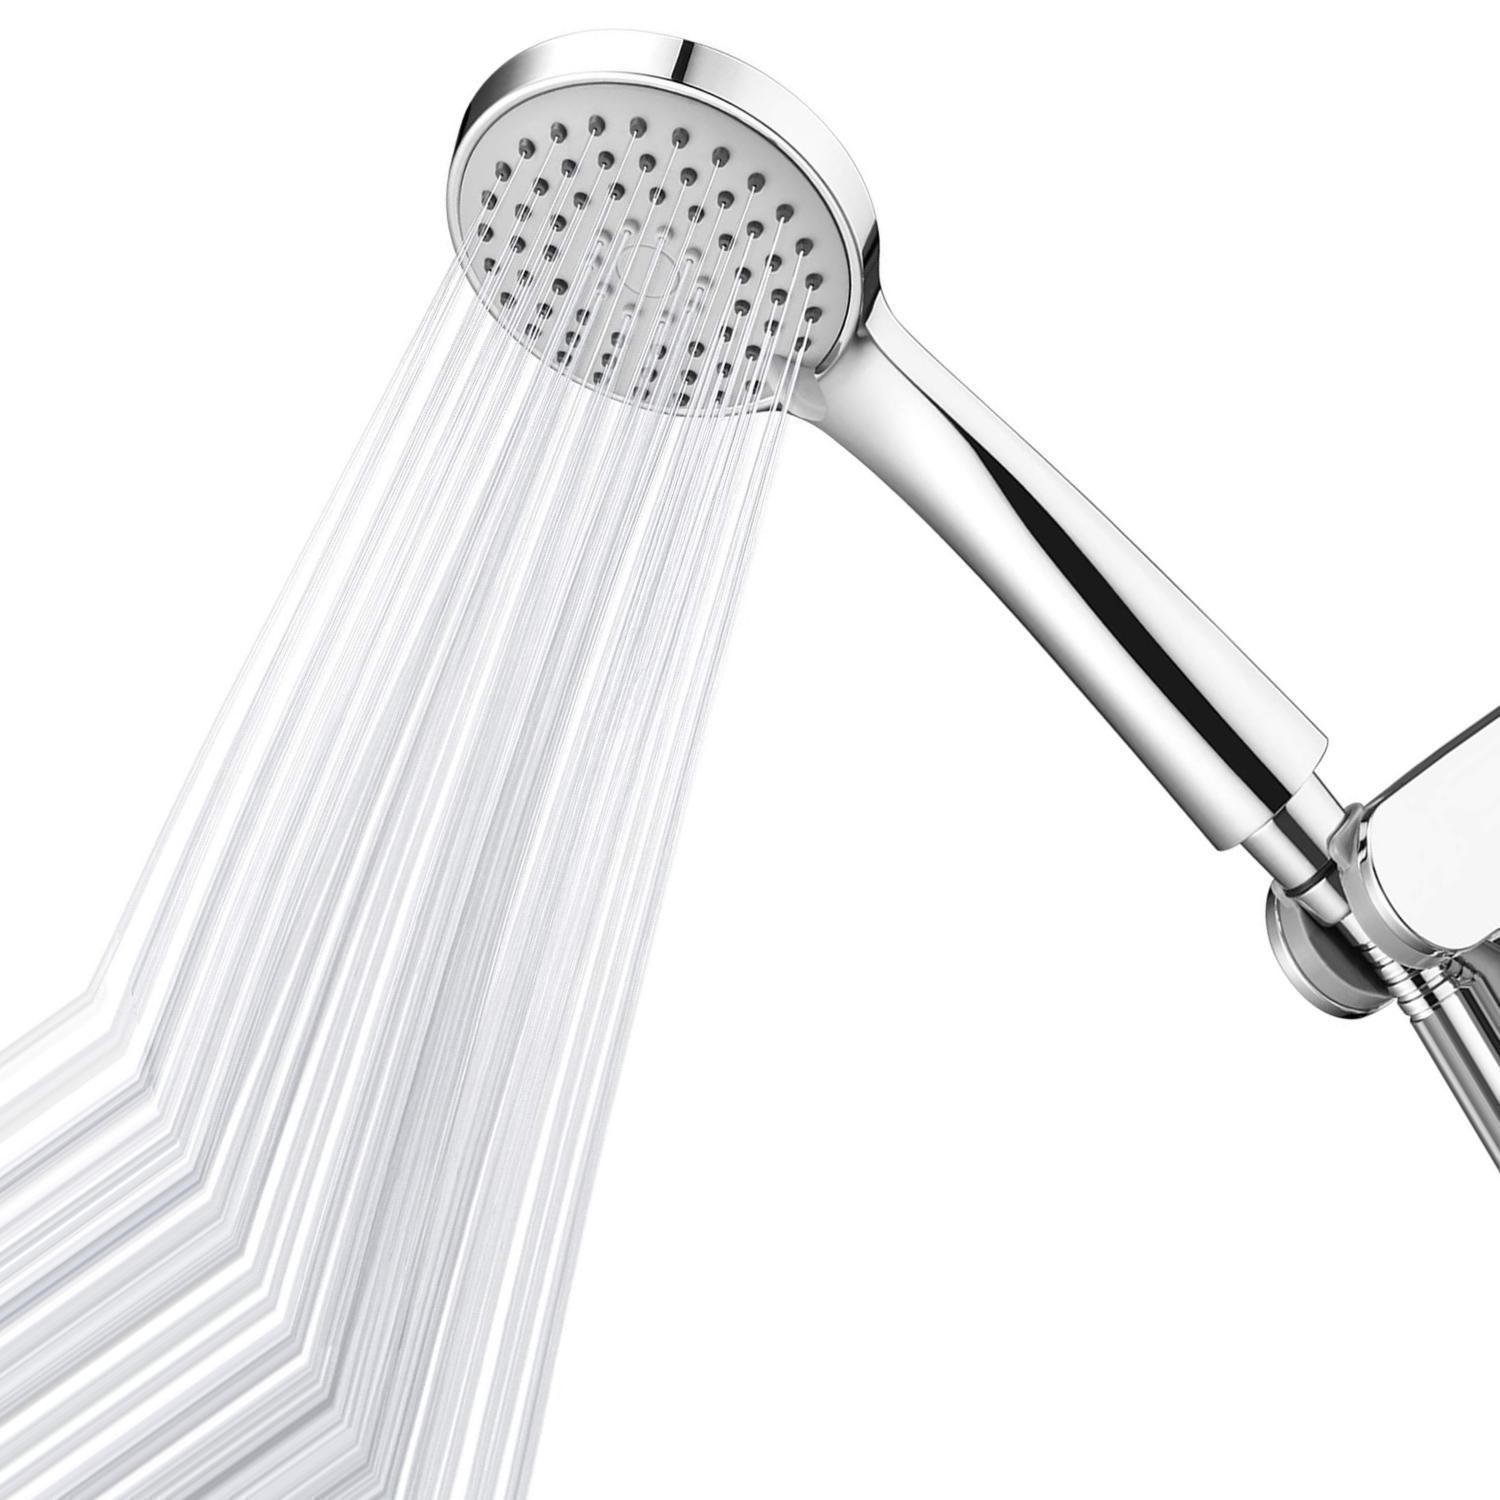Ducha: (121, 0, 1499, 1499)
